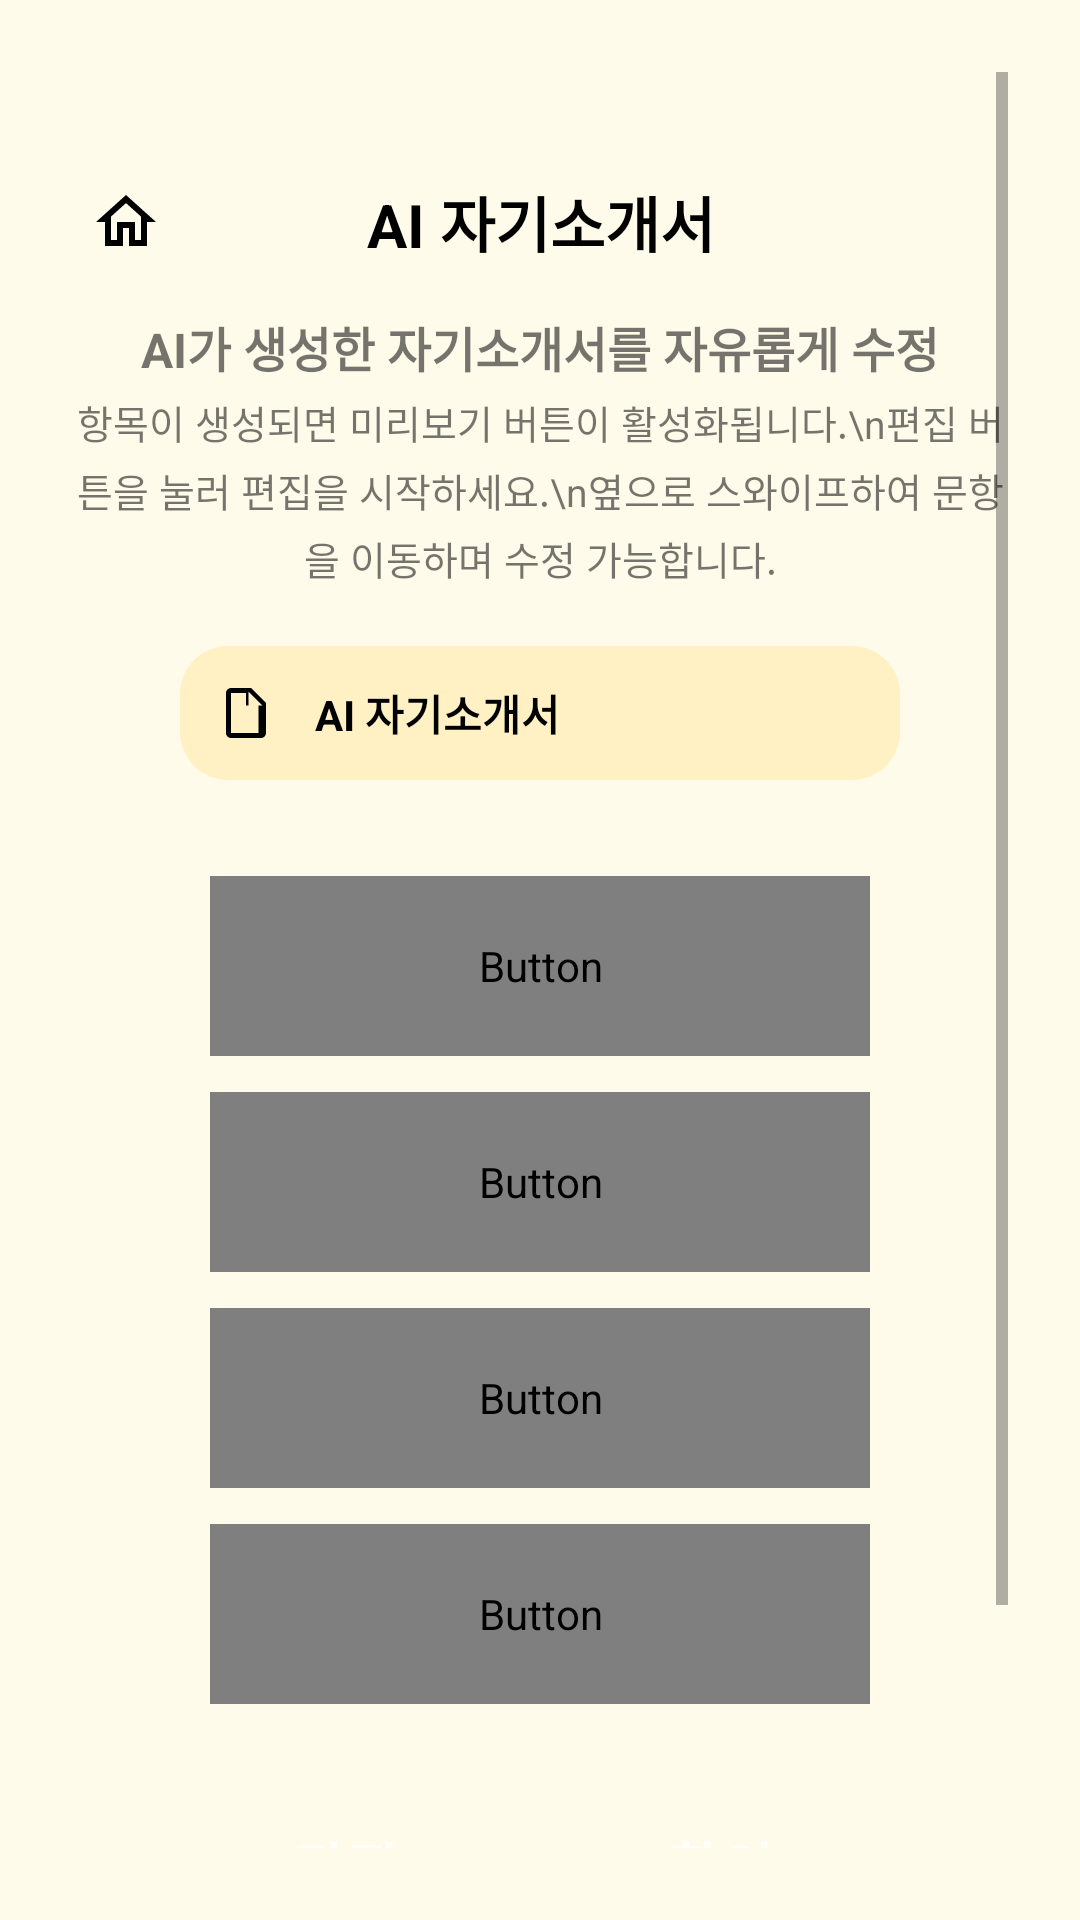

Icons on this 1080×1920 Android screen, each with its box as (x1, y1, x2, y2):
home: (96, 195, 156, 246)
문서: (226, 688, 266, 738)
